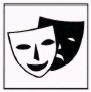teatro: (3, 1, 91, 89)
